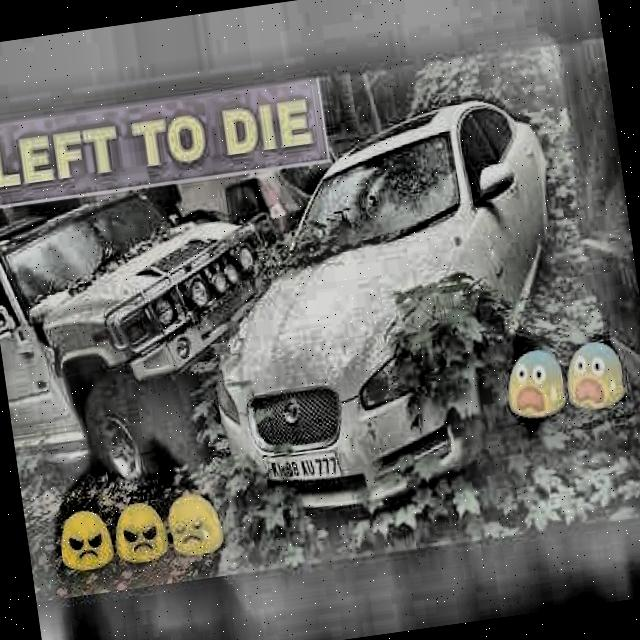license_plate: (265, 446, 344, 491)
